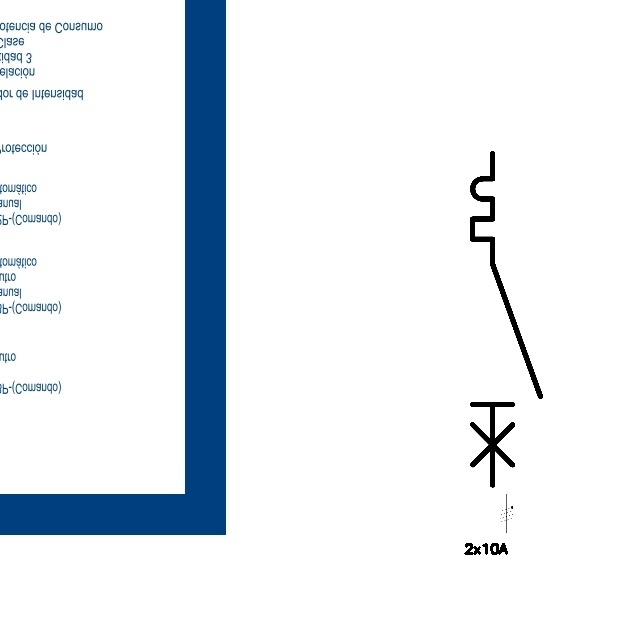interruptor_termomagnetico: (464, 145, 549, 493)
